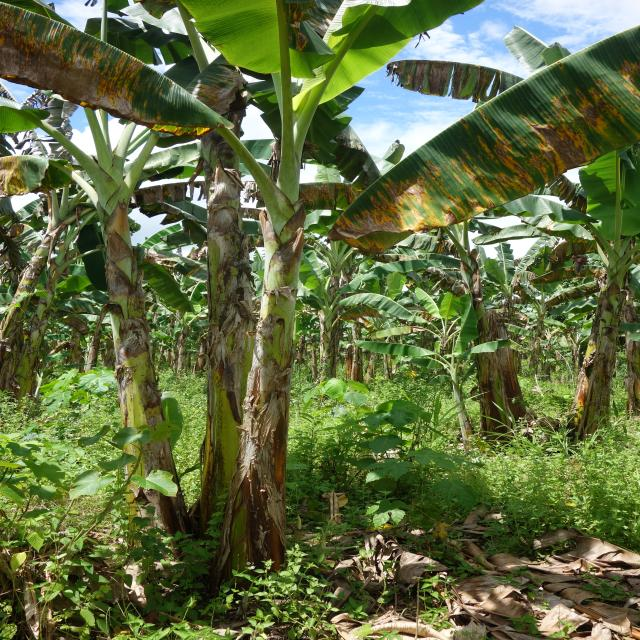Banana-plant: (240, 135, 324, 598), (76, 187, 153, 595), (190, 159, 241, 530), (565, 211, 640, 456)
